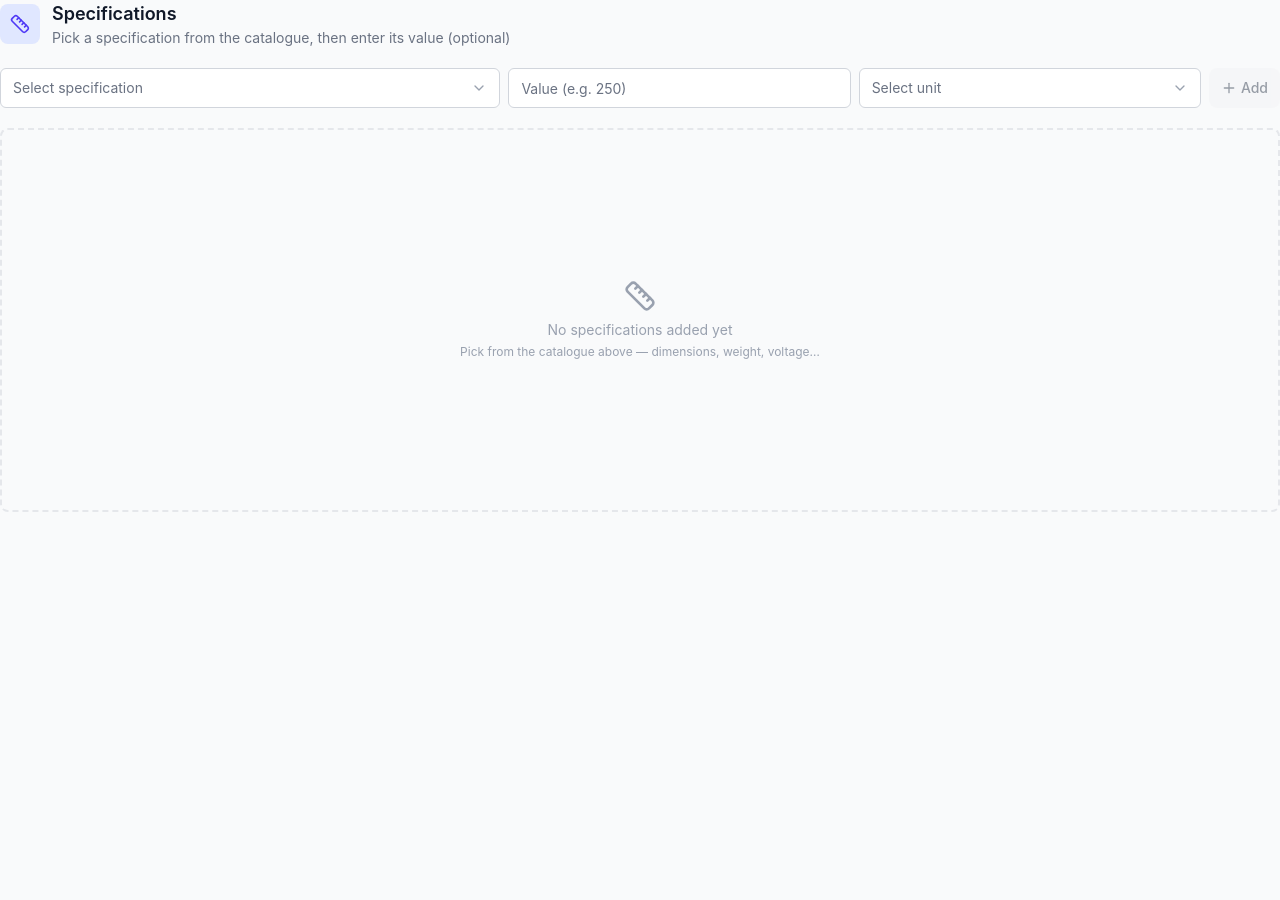
Test: SpecificationsStep › keeps Add disabled until a key and a value are provided
The image size is (1280, 900).
Expected: the button "Add" is disabled, [1209,68,1279,108]
Click the button "Select specification": point(78, 88) [0,68,500,108]
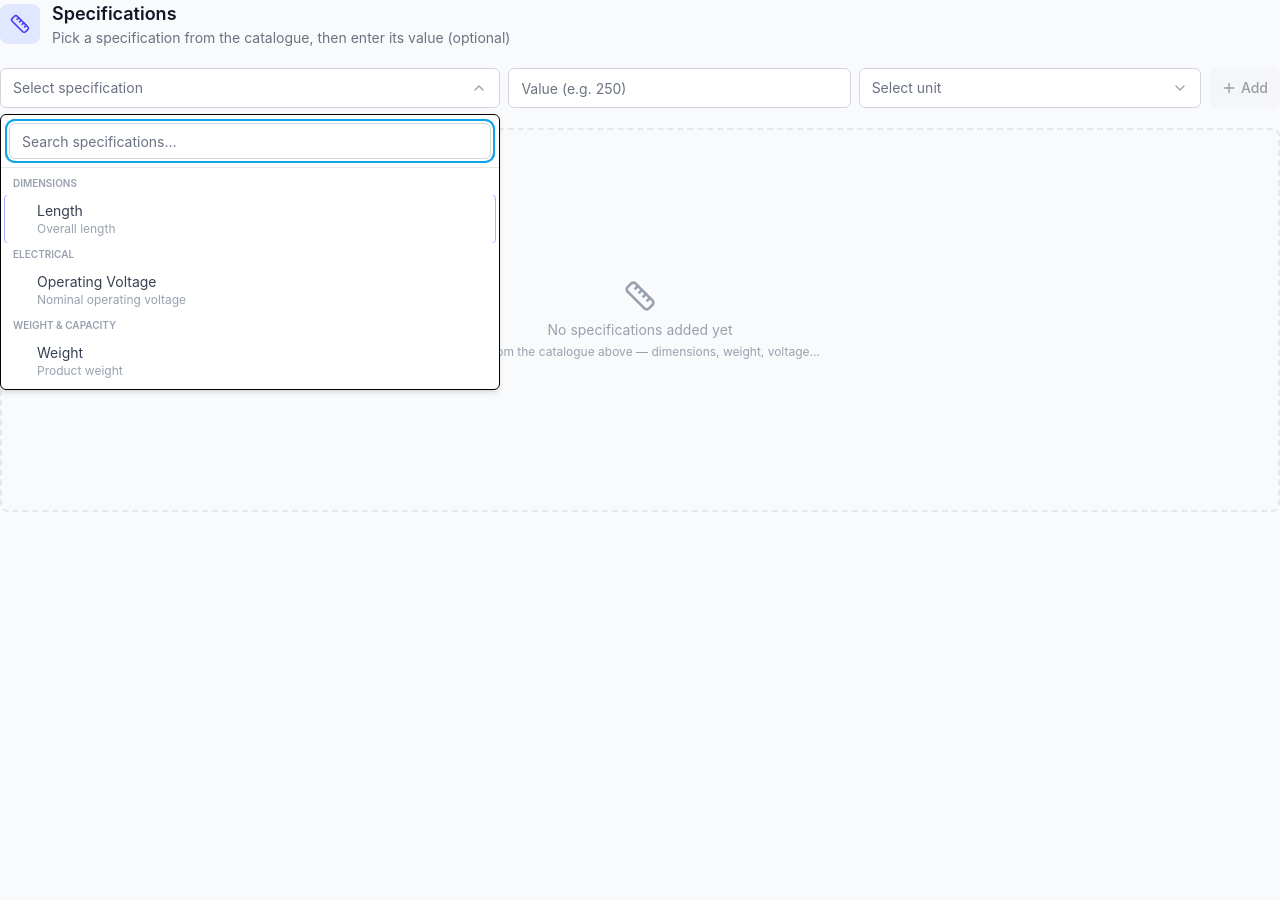
Click the option "Length Overall length": point(60, 210) [5,195,495,243]
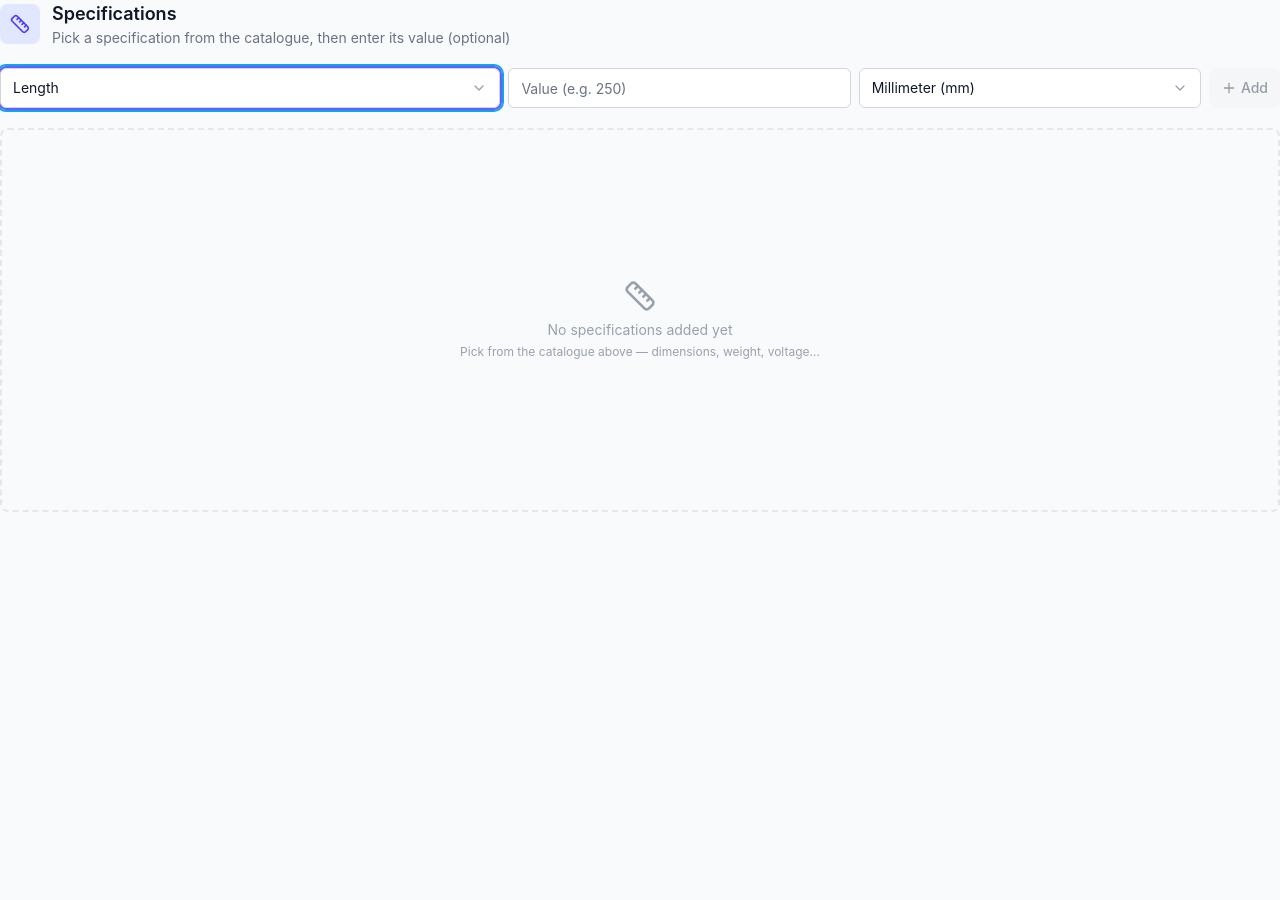
Expected: the button "Add" is disabled, [1209,68,1279,108]
In the field with placeholder "Value (e.g. 250)": point(680, 88) [508,68,851,108], type "110"
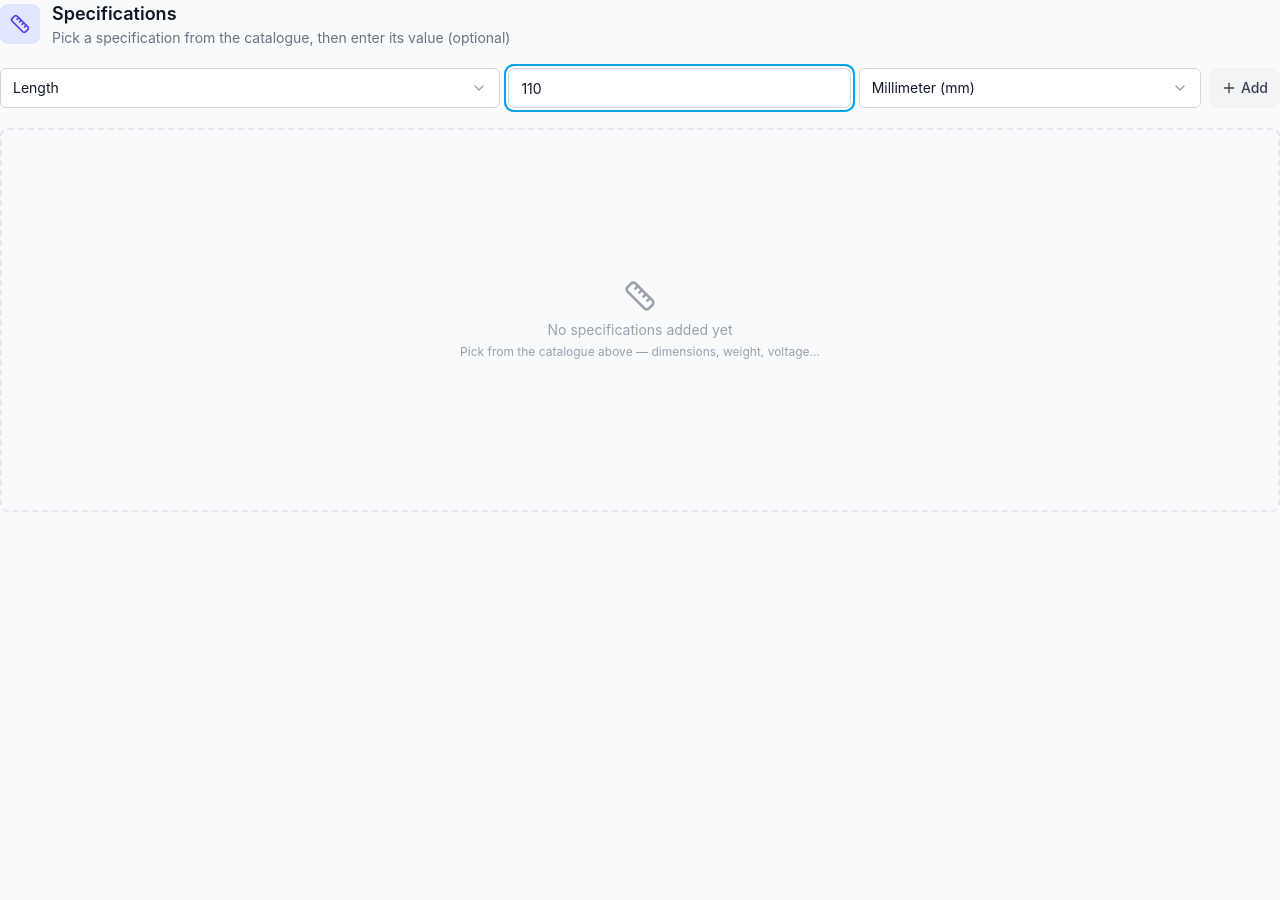
Expected: the button "Add" is enabled, [1209,68,1279,108]
